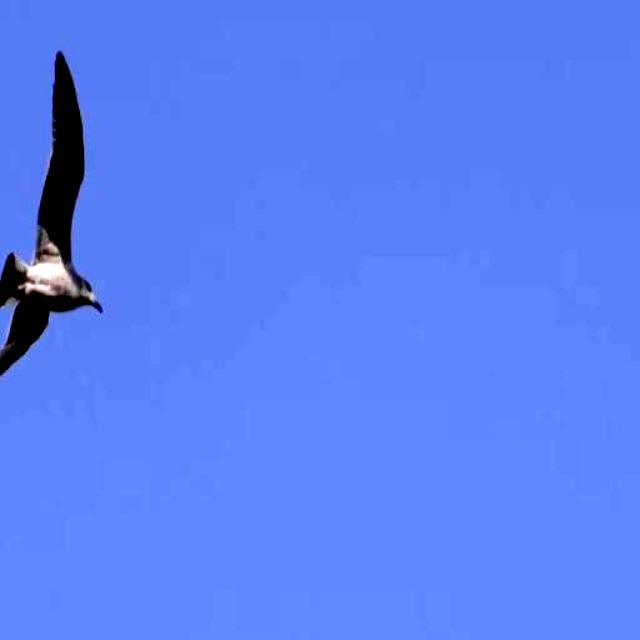airplane: (0, 40, 109, 406)
